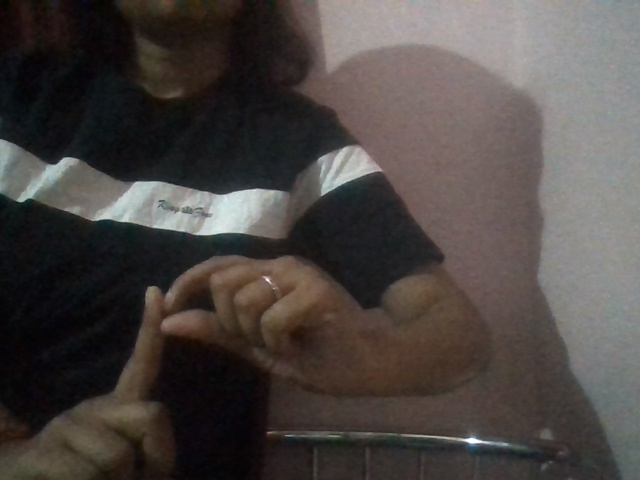P: (54, 243, 388, 478)
